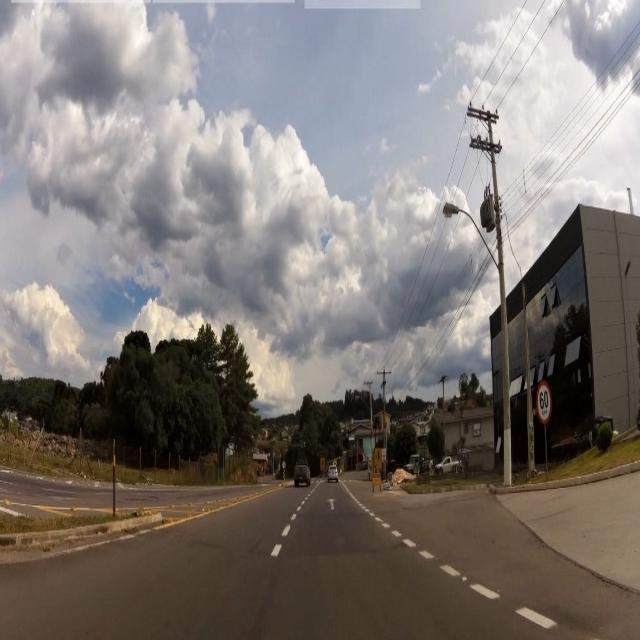R-19: (536, 382, 551, 424)
